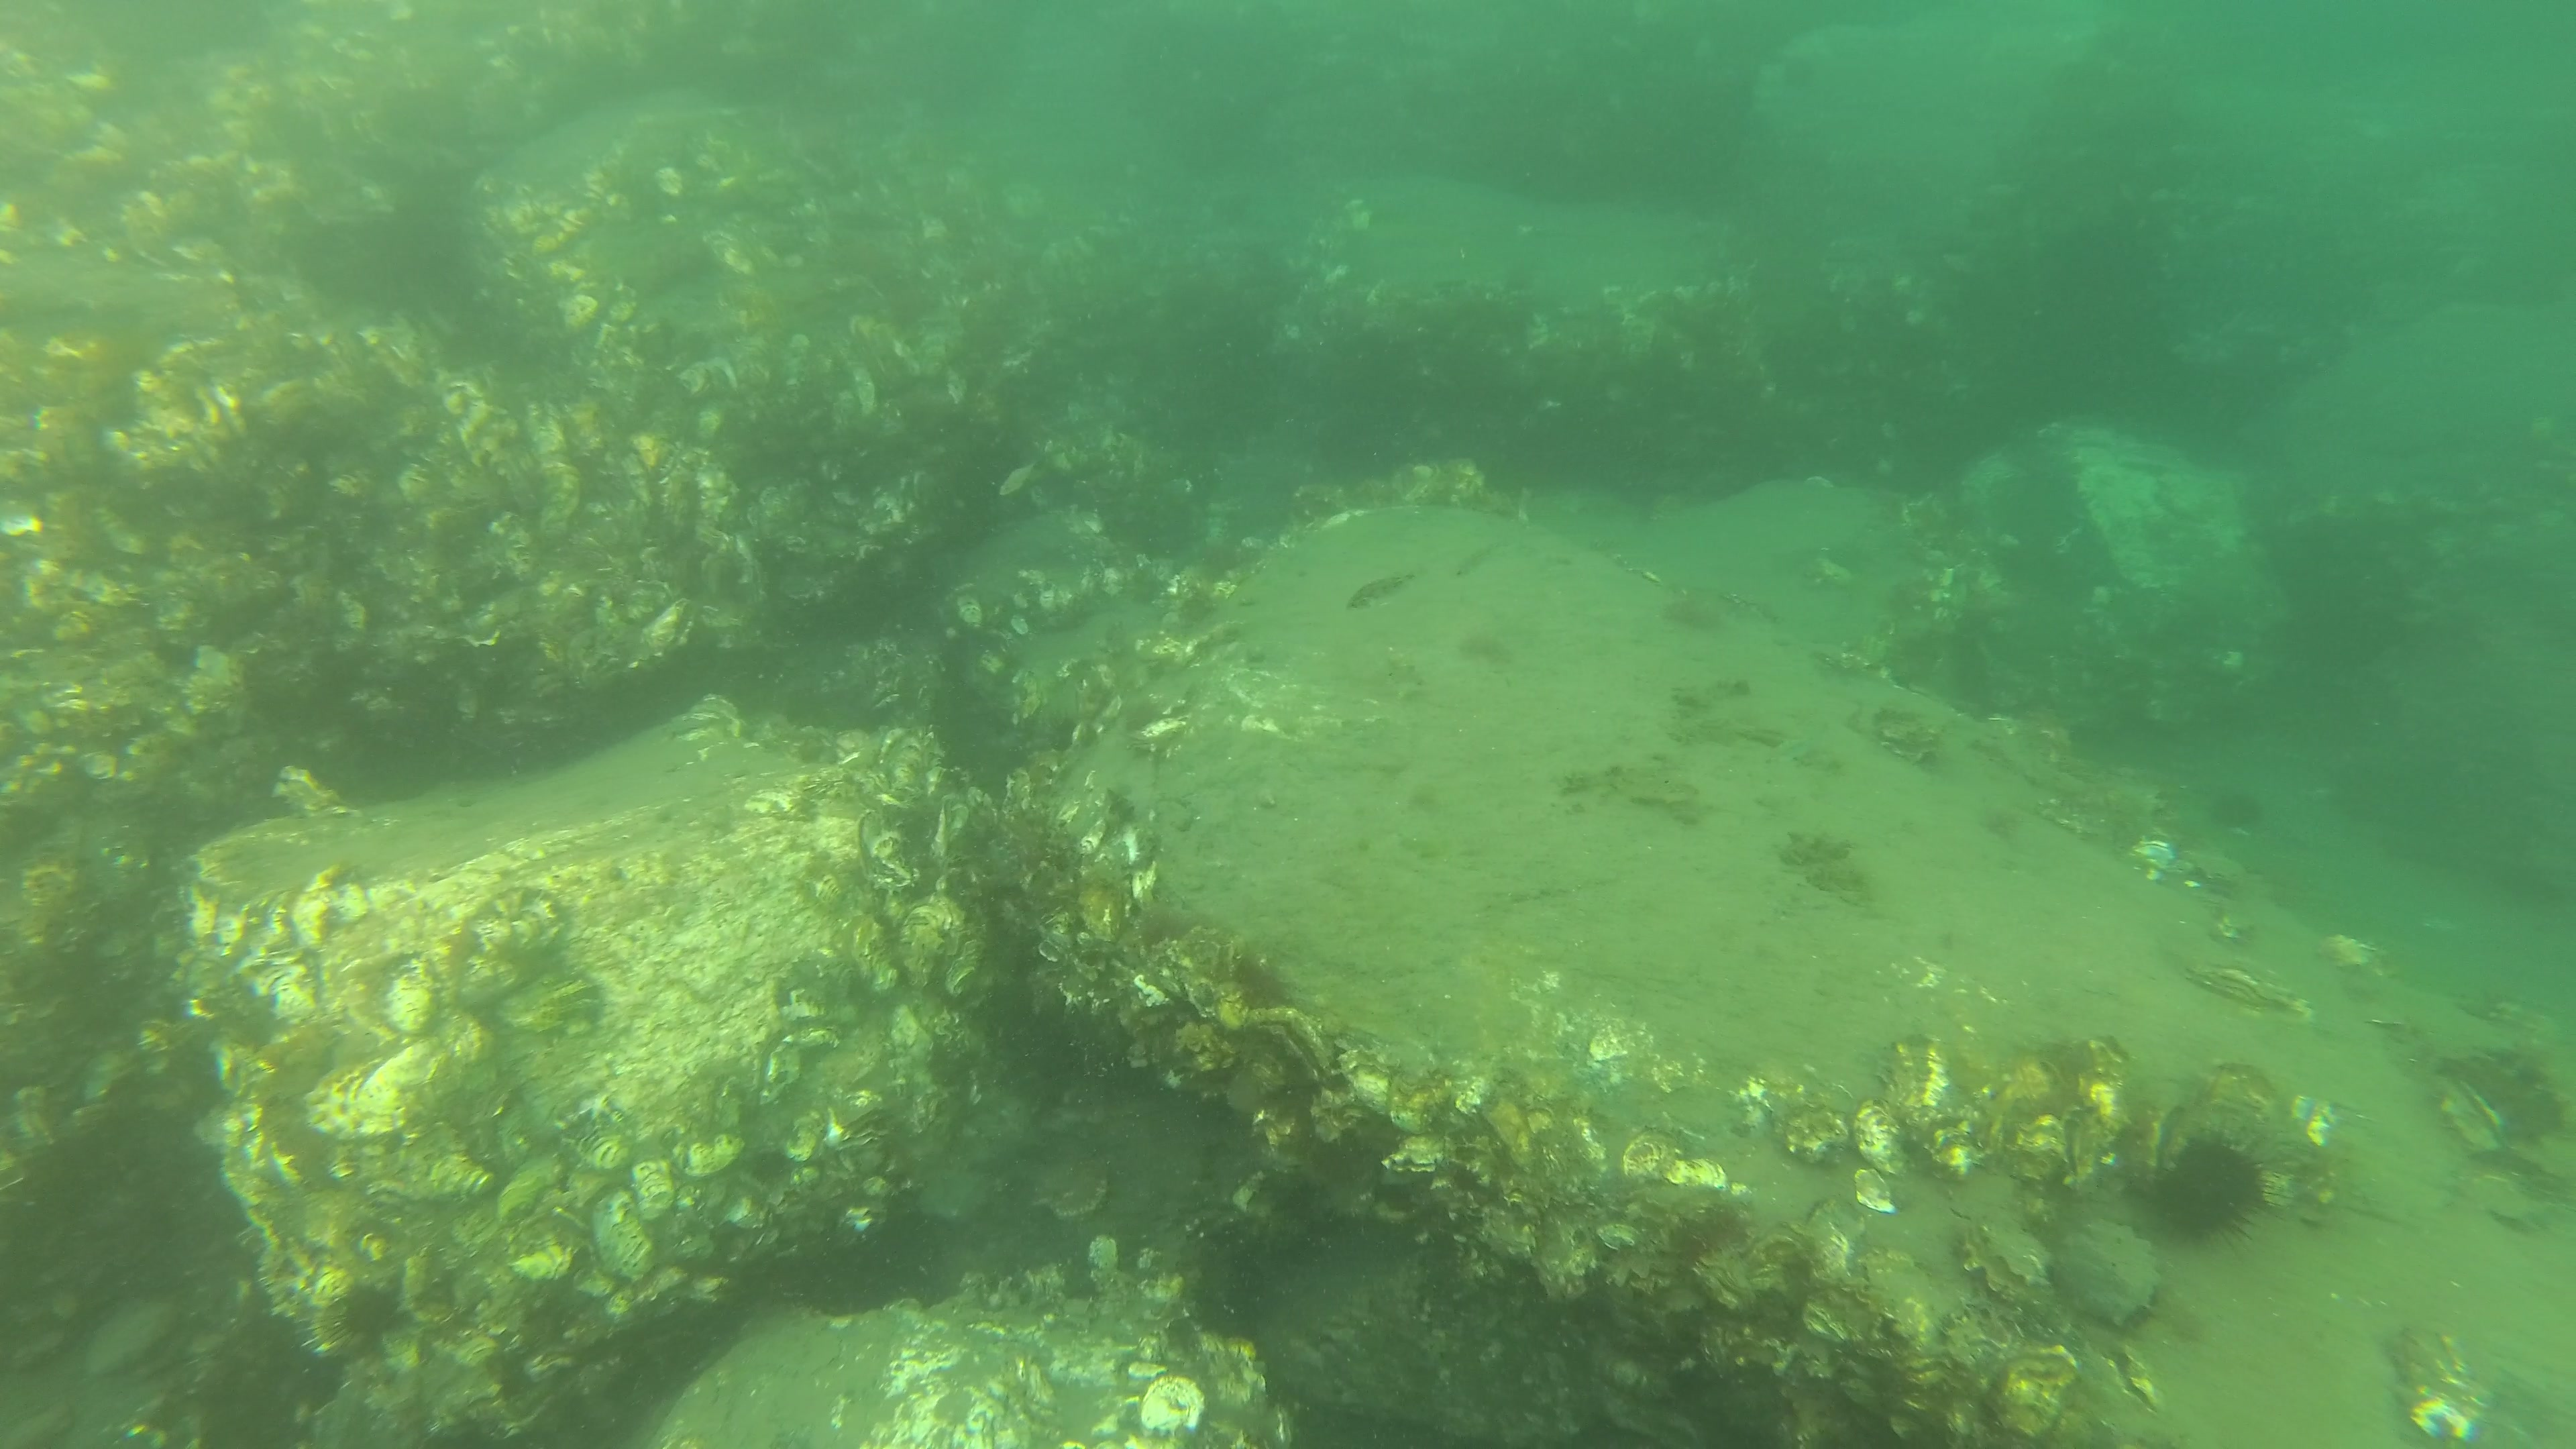echinus: (2146, 1127, 2279, 1247)
